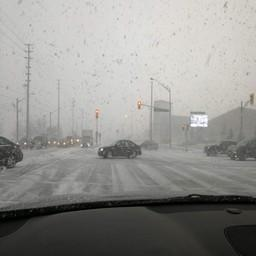Snow: (17, 148, 74, 166), (142, 149, 207, 161), (24, 148, 62, 159)
